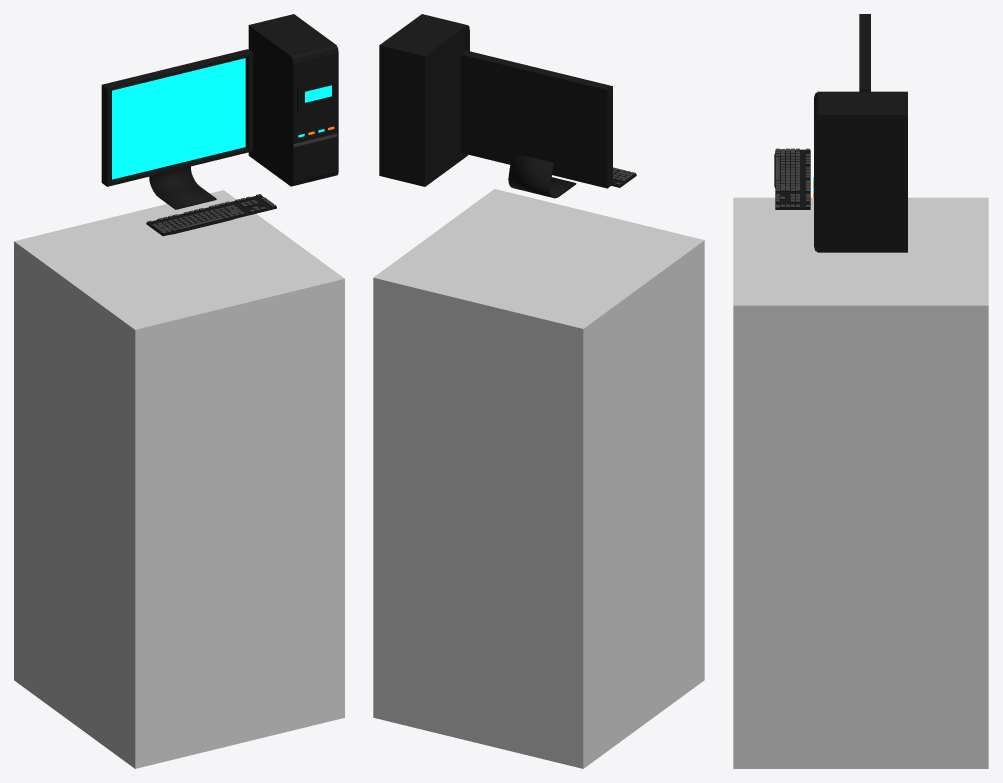
Rendered from Computadora.fbx.
3 views of the same model, side by side, from view 1: azimuth 30°, elevation 25°; view 2: azimuth 150°, elevation 25°; view 3: azimuth 270°, elevation 25° (orthographic). The views are drawn at different scales.
Parts seen in each view (by area): view 1: Cube, Monitor, Torre, Teclado, Base; view 2: Cube, Monitor, Torre, Base; view 3: Cube, Torre, Teclado, Monitor.
Part boxes in pixels (bbox=[...]): Cube: bbox=[14, 190, 344, 768]; Monitor: bbox=[101, 49, 253, 186]; Torre: bbox=[248, 14, 338, 186]; Teclado: bbox=[146, 194, 276, 236]; Base: bbox=[149, 166, 216, 209]; Cube: bbox=[373, 189, 704, 768]; Monitor: bbox=[461, 50, 612, 188]; Torre: bbox=[379, 14, 469, 186]; Base: bbox=[508, 153, 576, 198]; Cube: bbox=[733, 197, 988, 768]; Torre: bbox=[814, 91, 907, 252]; Teclado: bbox=[774, 148, 810, 209]; Monitor: bbox=[859, 14, 870, 91].
Size of what is drawn, in the model's own units: 231 by 579 by 200.
